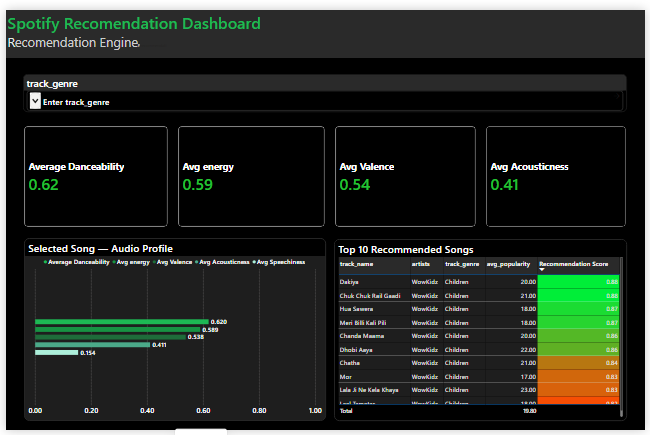

What the dashboard file says about the page in this screenshot:
{"tool":"powerbi","page":{"name":"Page 2","canvas":[2130,1400],"ordinal":1},"visuals":[{"type":"textSlicer","fields":{"Values":["dim_genre.track_genre"]},"box":[56.7,213.3,2013.3,126.7],"z":0},{"type":"clusteredBarChart","title":"Selected Song — Audio Profile","fields":{"Y":["fact_table.Average Danceability","fact_table.Avg energy","fact_table.Avg Valence","fact_table.Avg Acousticness","fact_table.Avg Speechiness"]},"box":[60,760,1006.7,610],"z":1000},{"type":"tableEx","title":"Top 10 Recommended Songs","fields":{"Values":["fact_table.track_name","dim_artist.artists","dim_genre.track_genre","fact_table.avg_popularity","fact_table.Recommendation Score"]},"box":[1093.3,763.3,976.7,606.7],"z":2000},{"type":"cardVisual","fields":{"Data":["fact_table.Average Danceability"]},"box":[56.7,383.3,486.7,343.3],"z":3000},{"type":"cardVisual","fields":{"Data":["fact_table.Avg energy"]},"box":[570,383.3,496.7,343.3],"z":4000},{"type":"cardVisual","fields":{"Data":["fact_table.Avg Valence"]},"box":[1093.3,383.3,476.7,343.3],"z":5000},{"type":"cardVisual","fields":{"Data":["fact_table.Avg Acousticness"]},"box":[1596.7,383.3,473.3,343.3],"z":6000},{"type":"textbox","box":[0,0,2130,160],"z":7000}]}

Visuals, with their boxes in screenshot pixels (x1, y1, x2, y2), scaled from the page's 2130x1400 canvas onto the 650x435 screenshot:
textSlicer - dim_genre.track_genre: [17, 66, 632, 106]
"Selected Song — Audio Profile" clusteredBarChart: [18, 236, 326, 426]
"Top 10 Recommended Songs" tableEx: [334, 237, 632, 426]
cardVisual - fact_table.Average Danceability: [17, 119, 166, 226]
cardVisual - fact_table.Avg energy: [174, 119, 326, 226]
cardVisual - fact_table.Avg Valence: [334, 119, 479, 226]
cardVisual - fact_table.Avg Acousticness: [487, 119, 632, 226]
textbox: [0, 0, 649, 50]
